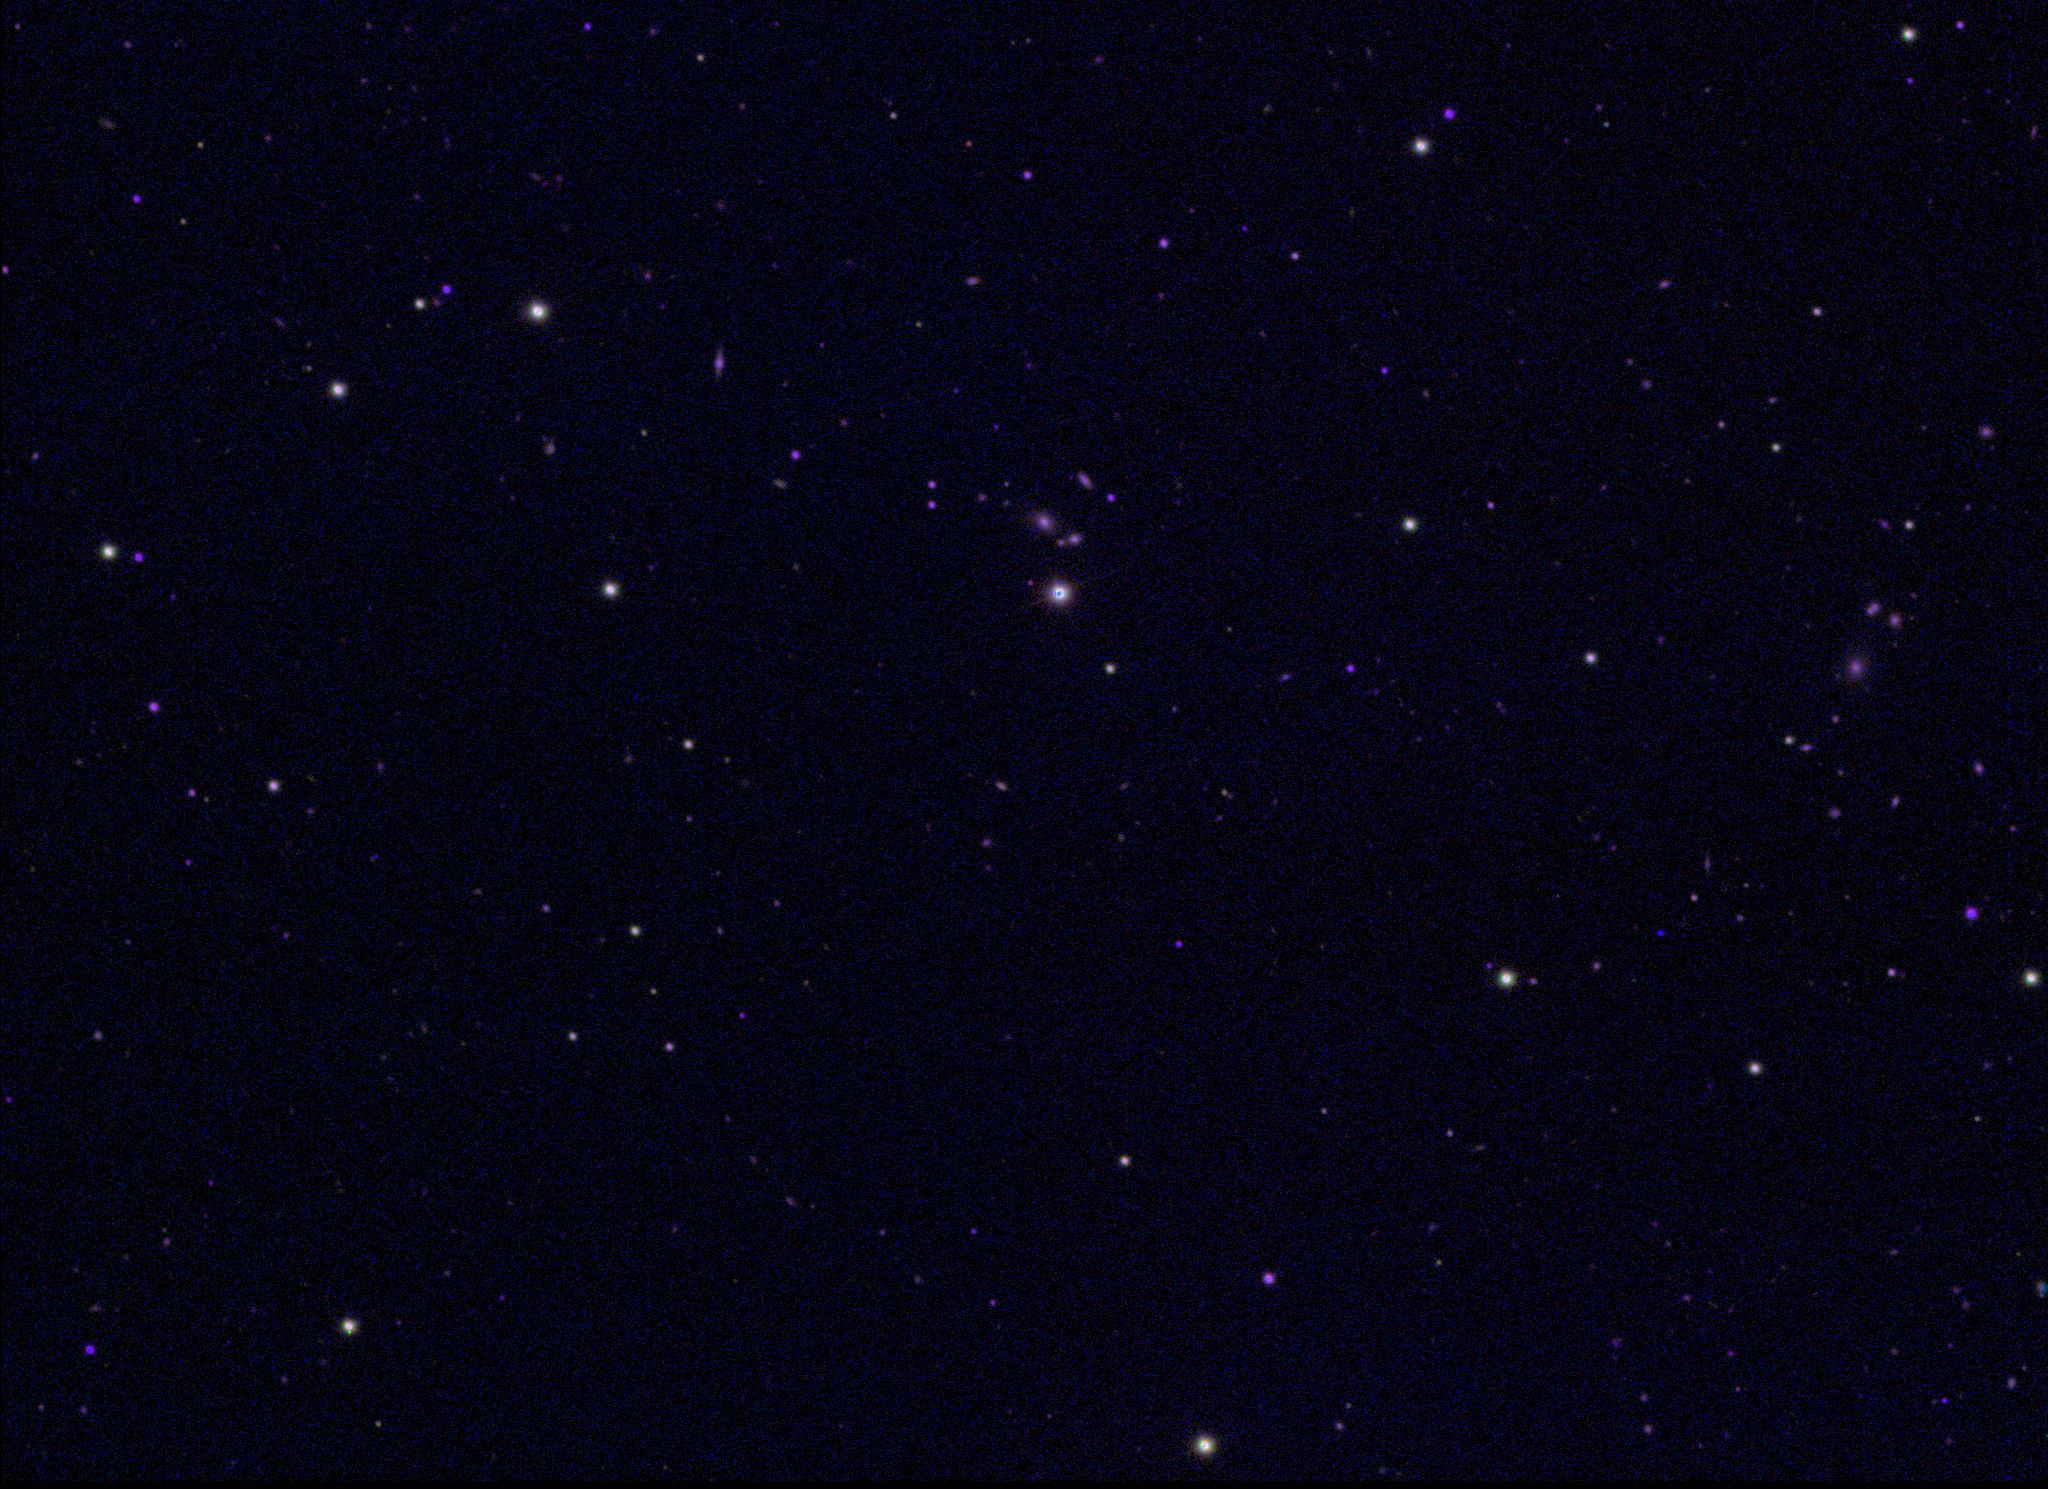L: (1654, 927, 1666, 942)
